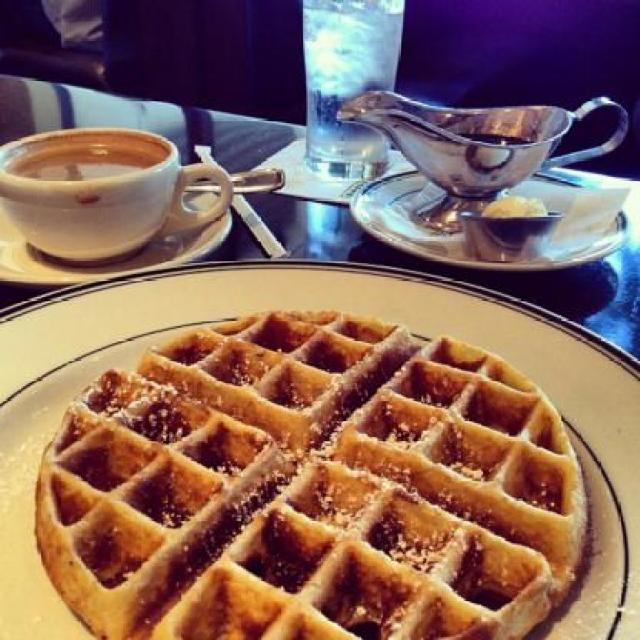Waffle: (32, 308, 594, 640)
